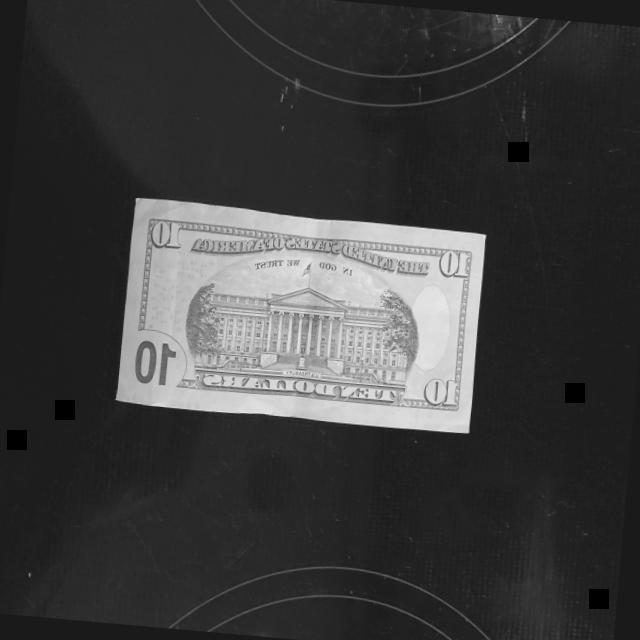ten: (114, 194, 490, 436)
